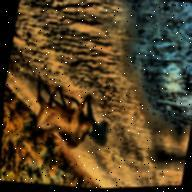boar: (27, 79, 102, 153)
